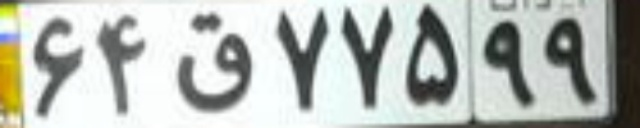5: (402, 3, 461, 105), (94, 15, 144, 114)
6: (32, 18, 89, 118)
7: (340, 6, 394, 110), (275, 7, 328, 111)
9: (544, 18, 599, 105), (483, 19, 534, 106)
ghaf: (173, 13, 258, 114)
